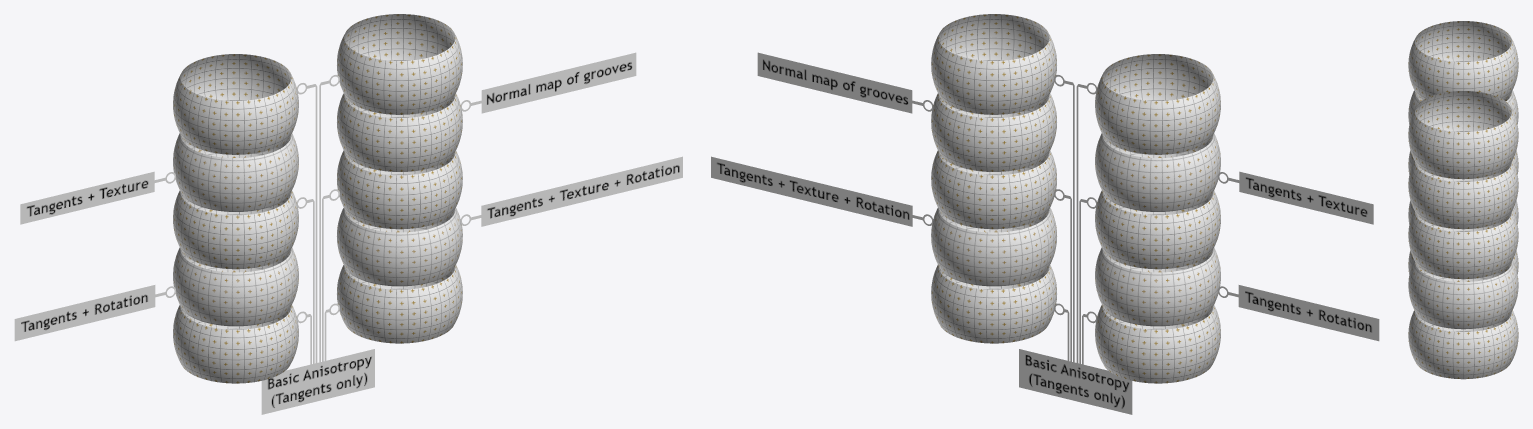
Rendered from AnisotropyRotationTest.glb.
3 renders of one model, left to right at view 1: azimuth 30°, elevation 25°; view 2: azimuth 150°, elevation 25°; view 3: azimuth 270°, elevation 25°, orthographic. The views are drawn at different scales.
Parts seen in each view (by area): view 1: Labels, Band 5L, Band 5R, Band 1L, Band 2R, Band 4R, Band 2L, Band 3L, Band 1R, Band 4L, Band 3R; view 2: Labels, Band 5L, Band 5R, Band 1L, Band 2R, Band 4R, Band 2L, Band 3L, Band 1R, Band 4L, Band 3R; view 3: Band 5R, Band 5L, Band 1R, Band 2R, Band 3R, Band 4R, Band 4L, Band 1L, Band 2L, Band 3L.
Boxes of the visible parts, x1,y1,x2,y2 form: Labels: [14, 52, 682, 414]; Band 5L: [173, 54, 298, 154]; Band 5R: [337, 14, 462, 114]; Band 1L: [173, 305, 298, 383]; Band 2R: [337, 208, 462, 286]; Band 4R: [337, 93, 462, 171]; Band 2L: [173, 247, 298, 326]; Band 3L: [173, 190, 298, 269]; Band 1R: [337, 265, 462, 343]; Band 4L: [173, 133, 298, 211]; Band 3R: [337, 150, 462, 229]; Labels: [711, 52, 1379, 414]; Band 5L: [1095, 54, 1220, 154]; Band 5R: [931, 14, 1056, 114]; Band 1L: [1095, 305, 1220, 383]; Band 2R: [931, 208, 1056, 286]; Band 4R: [931, 93, 1056, 171]; Band 2L: [1095, 247, 1220, 326]; Band 3L: [1095, 190, 1220, 269]; Band 1R: [931, 265, 1056, 343]; Band 4L: [1095, 133, 1220, 211]; Band 3R: [931, 150, 1056, 229]; Band 5R: [1408, 91, 1518, 179]; Band 5L: [1408, 21, 1518, 99]; Band 1R: [1408, 310, 1518, 379]; Band 2R: [1408, 260, 1518, 329]; Band 3R: [1408, 210, 1518, 279]; Band 4R: [1408, 160, 1518, 229]; Band 4L: [1408, 90, 1518, 123]; Band 1L: [1408, 250, 1518, 273]; Band 2L: [1408, 200, 1518, 223]; Band 3L: [1408, 150, 1518, 173].
Bounding box in the file's own units: 12.23 × 6.01 × 2.
Materials: 6 (6 with a texture image).
